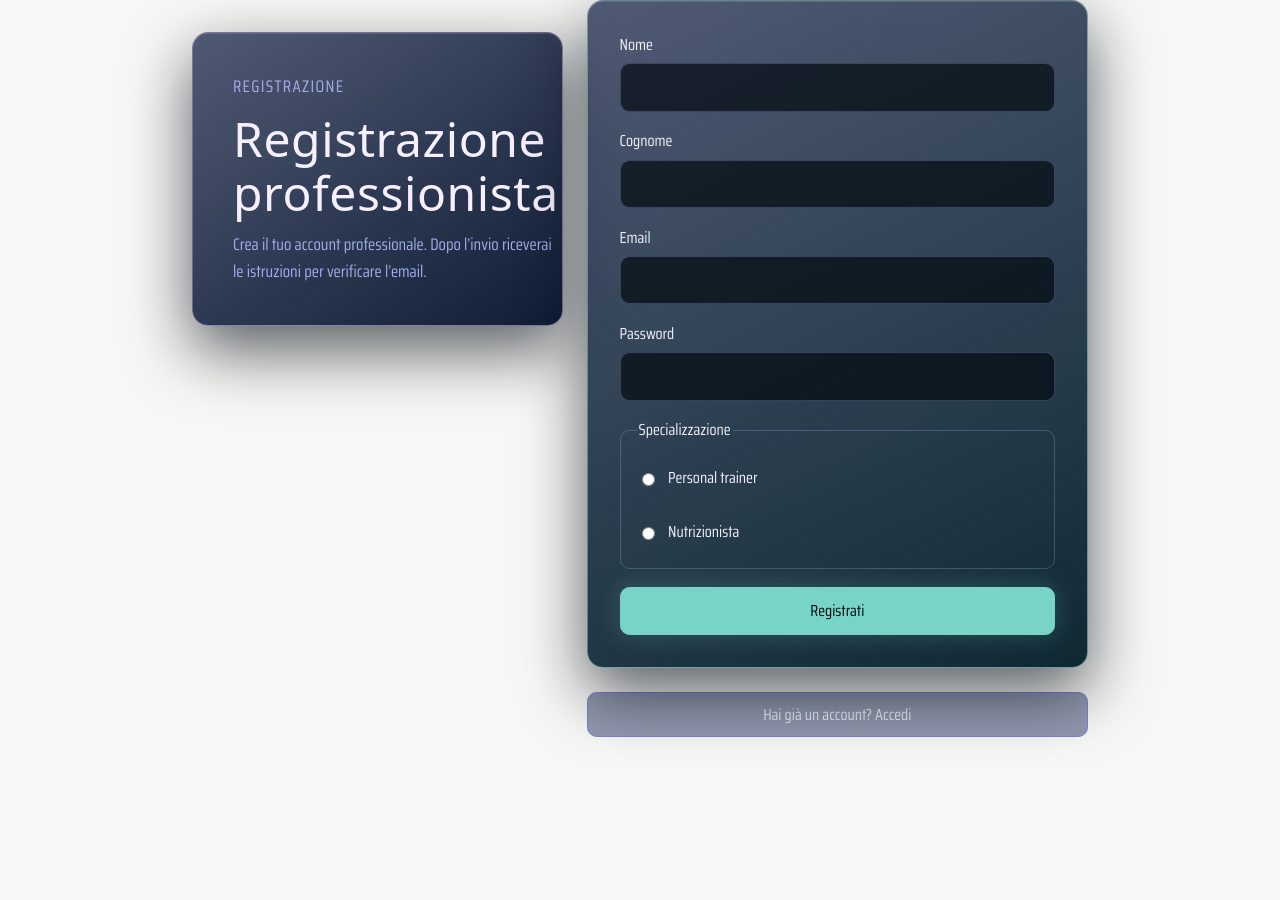
Test: RegisterProfessionalPage › blocca submit con validazione locale
Click the button "Registrati" at (837, 611), box [620,587,1055,635]
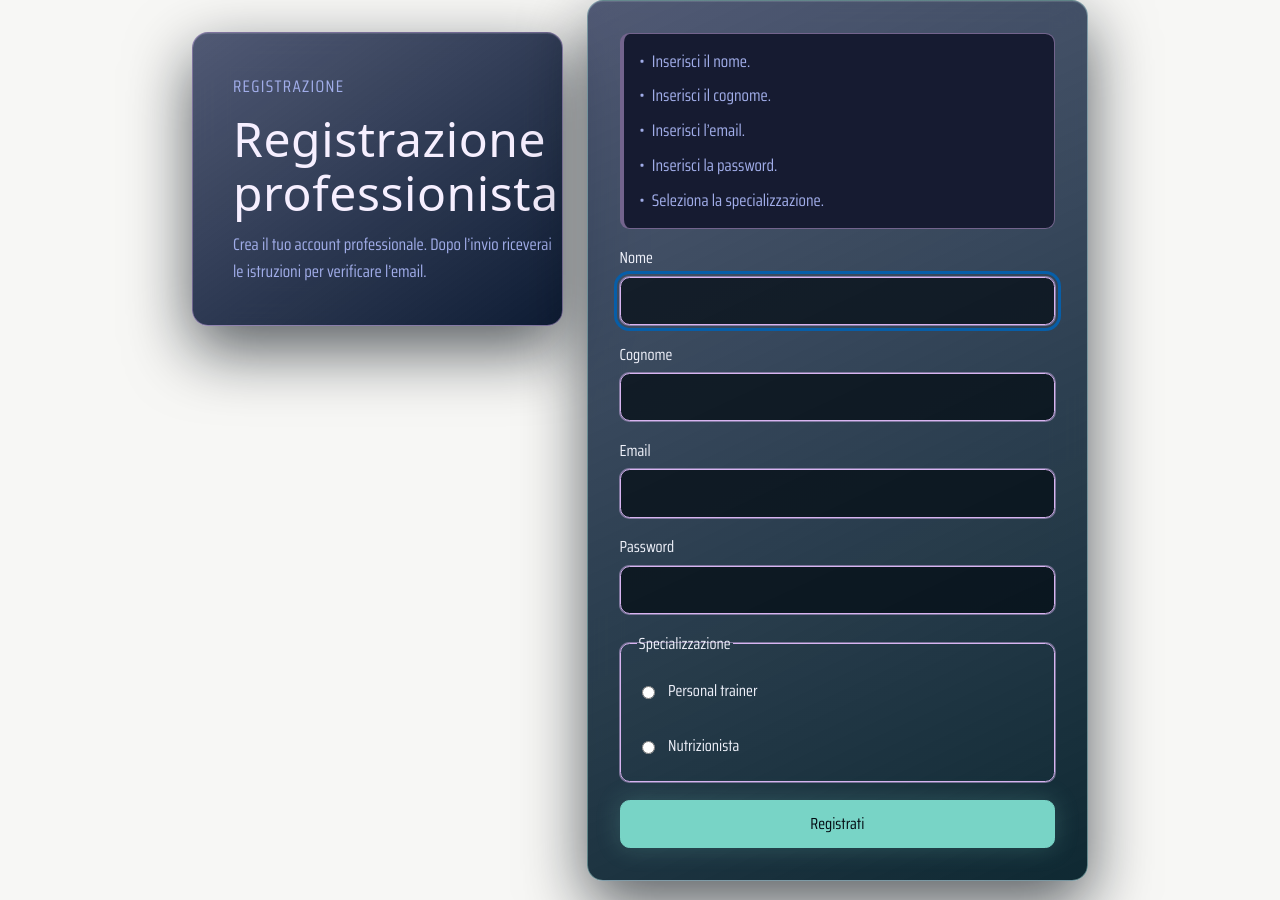
Check: the message is shown, box [620,33,1055,229]
